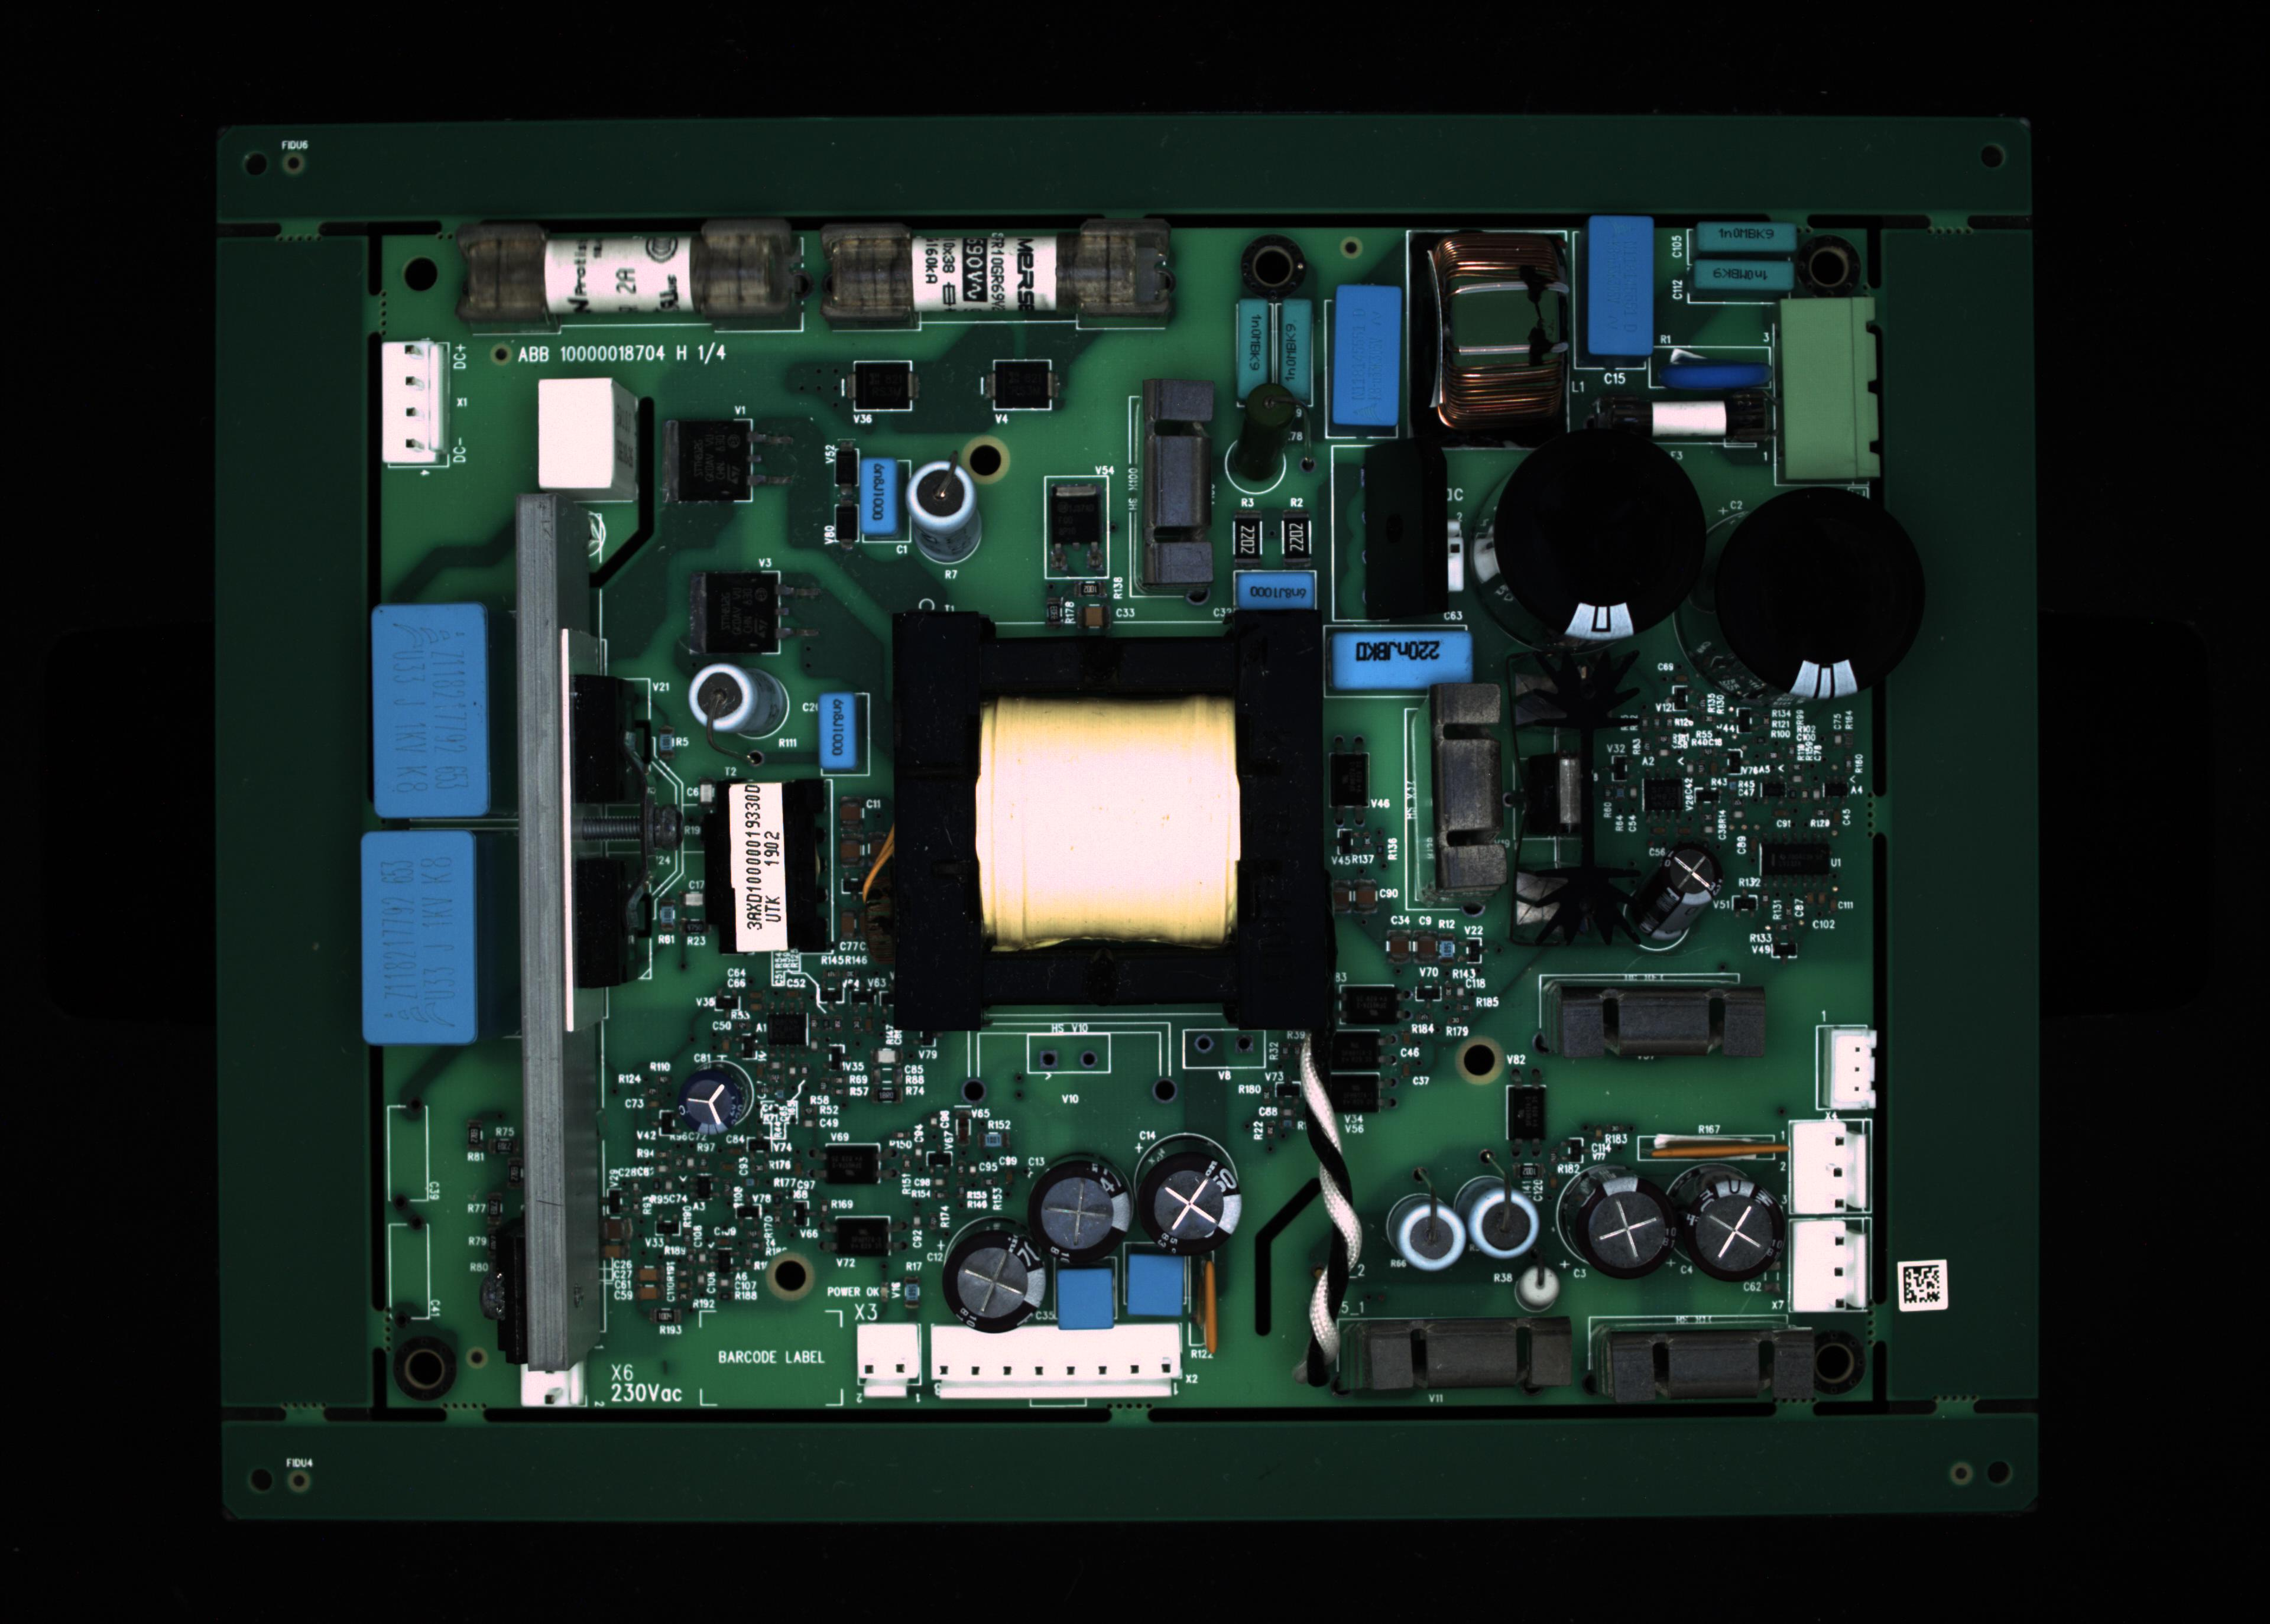10_p: (1648, 346, 1772, 394)
11_q: (1779, 299, 1876, 489)
12_r: (1591, 387, 1776, 455)
13_s: (382, 337, 440, 466)
14_t: (536, 380, 615, 489)
15_e: (860, 457, 895, 540)
16_k: (891, 464, 986, 566)
17_u: (1139, 374, 1219, 599)
18_v: (1234, 569, 1317, 606)
19_w: (1333, 629, 1473, 687)
1_a: (455, 216, 807, 336)
20_f: (1393, 517, 1470, 599)
21_g: (1491, 429, 1707, 638)
22_g: (1716, 490, 1922, 700)
23_h: (371, 603, 487, 817)
24_h: (360, 830, 477, 1049)
25_f: (520, 1360, 589, 1410)
26_f: (855, 1323, 923, 1401)
27_x: (925, 1323, 1182, 1410)
28_i: (1131, 1148, 1243, 1251)
29_i: (1027, 1162, 1134, 1274)
2_a: (819, 216, 1175, 330)
30_i: (942, 1232, 1048, 1334)
31_j: (1055, 1271, 1113, 1330)
32_j: (1125, 1257, 1182, 1316)
33_e: (819, 692, 858, 768)
34_k: (1384, 1193, 1465, 1276)
35_k: (1456, 1178, 1542, 1271)
36_i: (1581, 1176, 1672, 1281)
37_i: (1681, 1178, 1786, 1278)
38_l: (1331, 1318, 1572, 1396)
39_l: (1590, 1316, 1815, 1406)
3_b: (1234, 295, 1270, 399)
40_l: (1539, 977, 1767, 1060)
41_y: (1430, 678, 1505, 893)
42_z: (1818, 1028, 1878, 1107)
43_m: (1792, 1121, 1871, 1216)
44_m: (1788, 1220, 1871, 1311)
45_i: (679, 1069, 738, 1135)
46_n: (1338, 982, 1412, 1028)
47_n: (811, 1142, 899, 1192)
48_n: (818, 1214, 911, 1265)
49_aa: (768, 1011, 809, 1046)
4_b: (1278, 299, 1310, 399)
50_n: (1321, 1030, 1391, 1070)
51_n: (1308, 1070, 1396, 1120)
52_ab: (1329, 740, 1377, 831)
53_ac: (1656, 1130, 1790, 1165)
54_ad: (1194, 1253, 1222, 1364)
57_af: (1509, 647, 1635, 951)
58_i: (1658, 844, 1723, 905)
59_o: (981, 359, 1060, 411)
5_c: (1333, 290, 1400, 425)
60_o: (848, 357, 916, 415)
6_6: (1405, 232, 1572, 452)
7_c: (1586, 218, 1655, 353)
8_d: (1695, 223, 1795, 251)
9_d: (1699, 258, 1792, 290)
